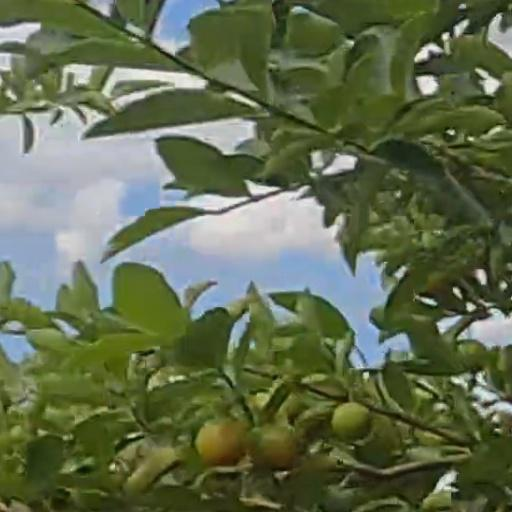acerola: (198, 423, 247, 465), (253, 427, 297, 467), (334, 404, 369, 438)
